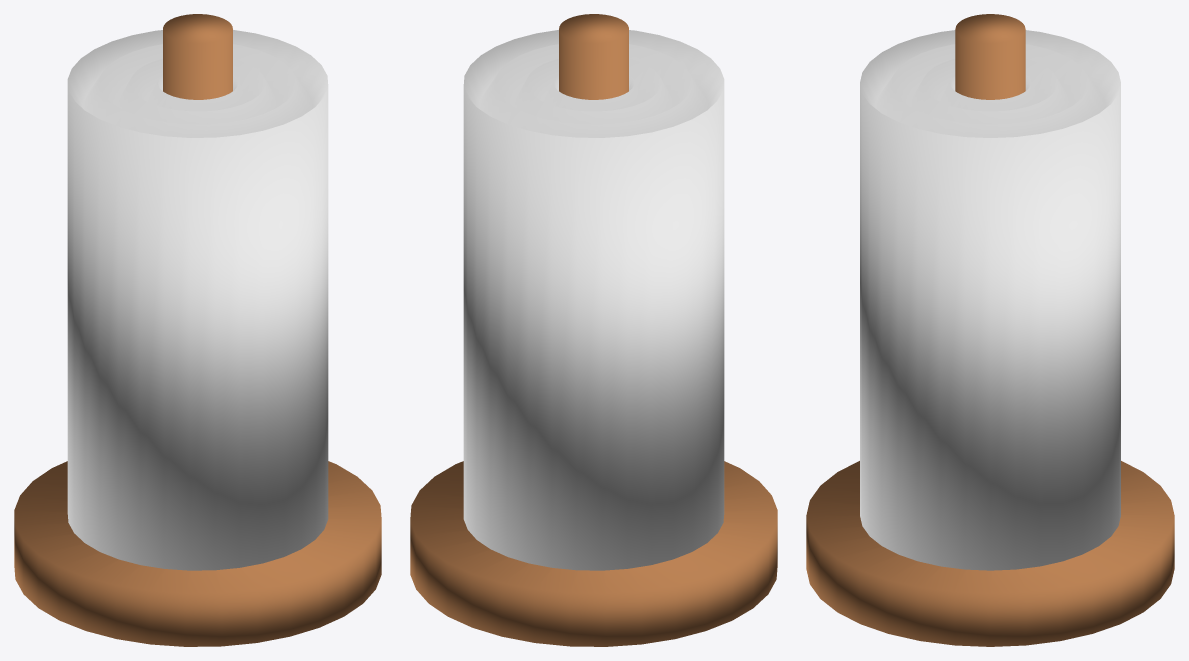
The model's file is paper.glb.
The picture shows the model from 3 angles, left to right: view 1: azimuth 30°, elevation 25°; view 2: azimuth 150°, elevation 25°; view 3: azimuth 270°, elevation 25°; orthographic projection.
Visible parts, largest first — view 1: Cylinder.004, Cylinder.003; view 2: Cylinder.004, Cylinder.003; view 3: Cylinder.004, Cylinder.003.
Part boxes in pixels (left/top/right/bottom): Cylinder.004: left=67, top=30, right=328, bottom=570; Cylinder.003: left=14, top=14, right=381, bottom=646; Cylinder.004: left=463, top=30, right=724, bottom=570; Cylinder.003: left=410, top=14, right=777, bottom=646; Cylinder.004: left=860, top=30, right=1120, bottom=570; Cylinder.003: left=806, top=14, right=1174, bottom=646.
Size of the model in its own units: 0.3197 by 0.5177 by 0.3197.
